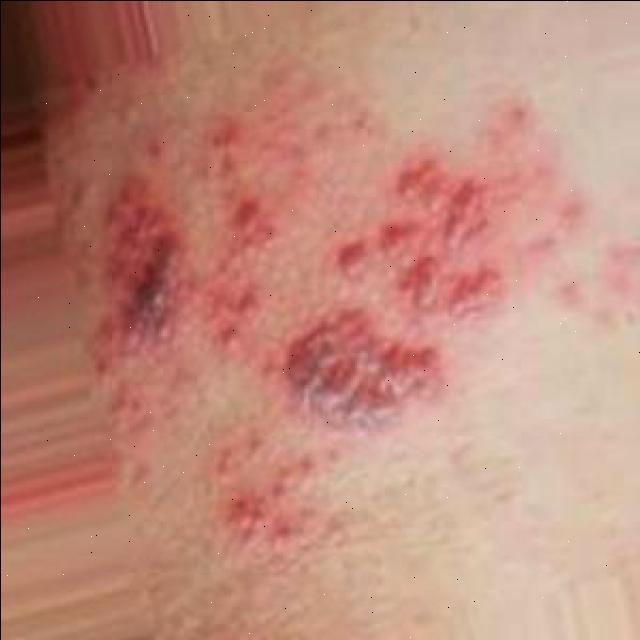Shingles: (282, 156, 503, 432), (104, 118, 278, 364), (214, 434, 342, 556)
